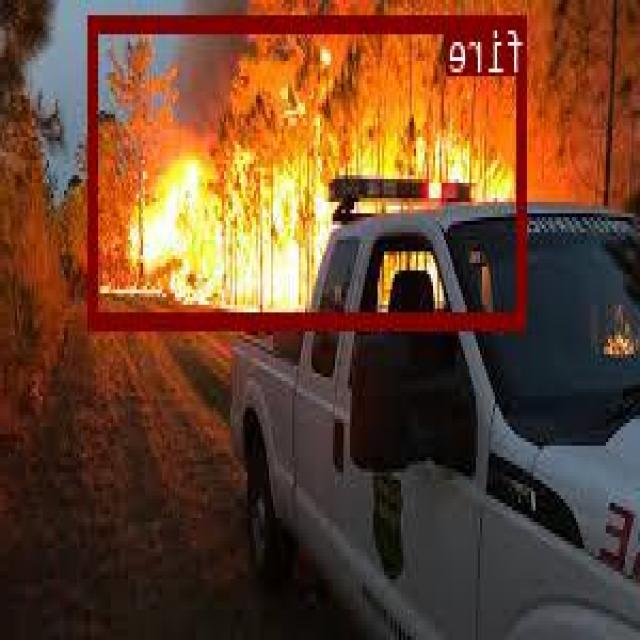fire: (90, 12, 527, 327)
